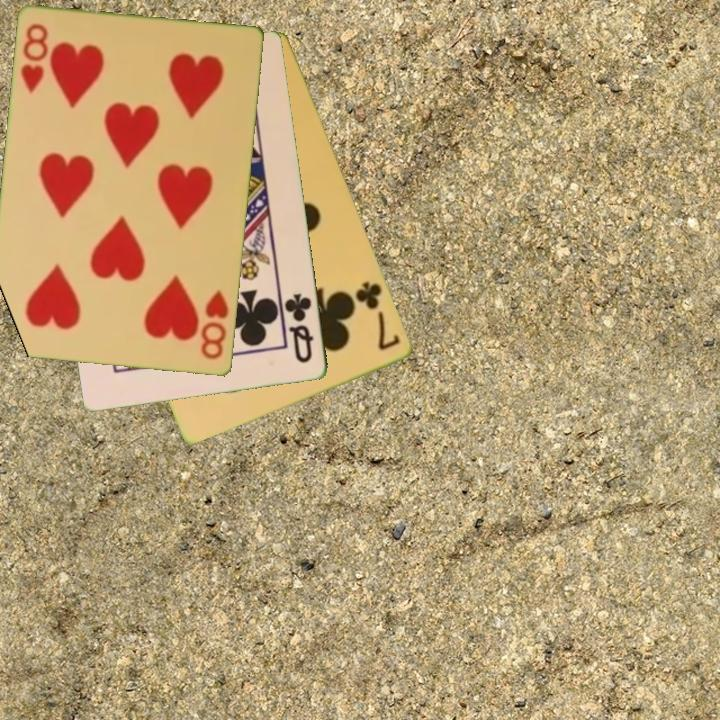7c: (352, 278, 404, 354)
8h: (17, 20, 52, 96), (198, 286, 232, 363)
Qc: (281, 290, 317, 367)
